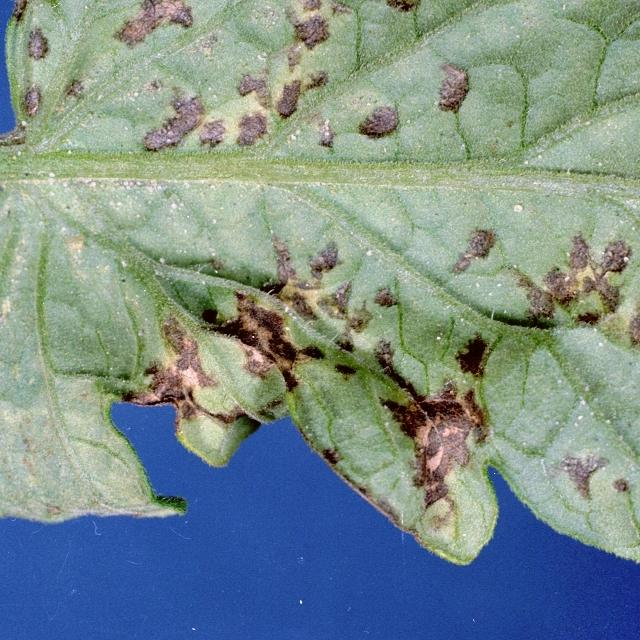Tomato leaf bacterial spot: (0, 0, 640, 549)
